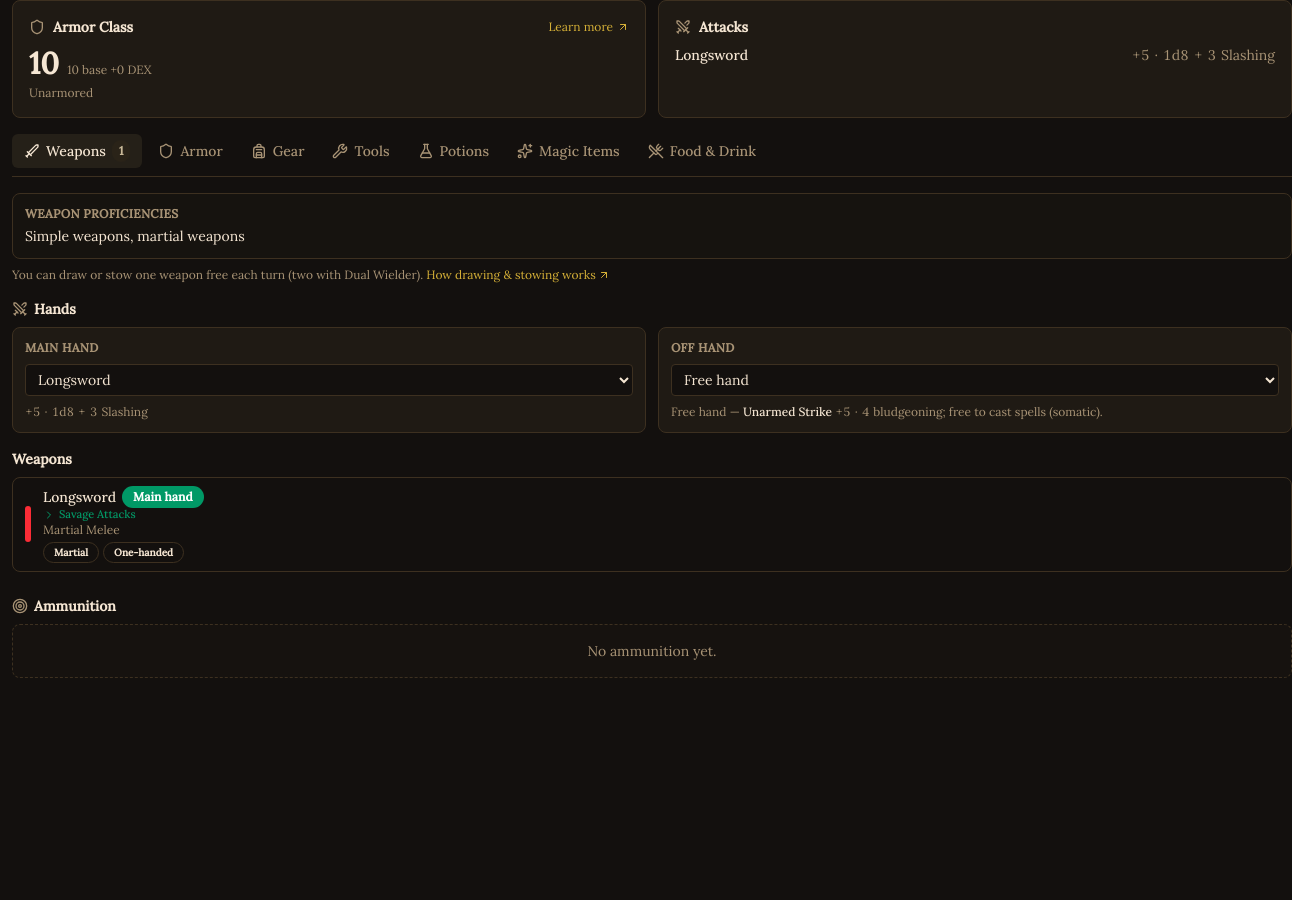
Test: InventoryTab › shows a Savage Attacks note on a melee weapon for a Half-Orc
Click the button with test id "savage-attacks-w1": (89,515) 43,508 -> 136,522
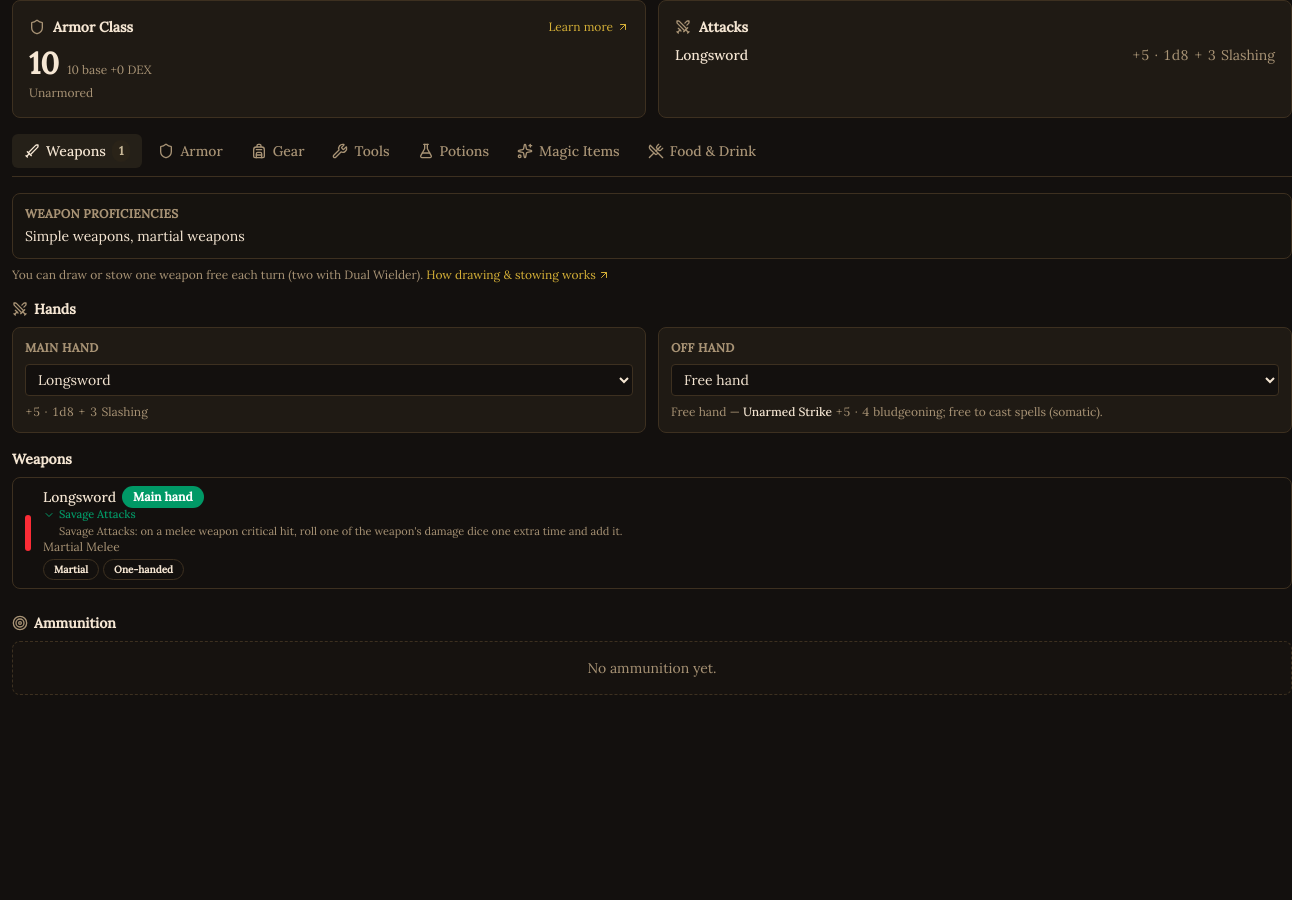
Check: the text with test id "savage-attacks-w1-text" shows "one extra time", box 59,524 -> 623,538
